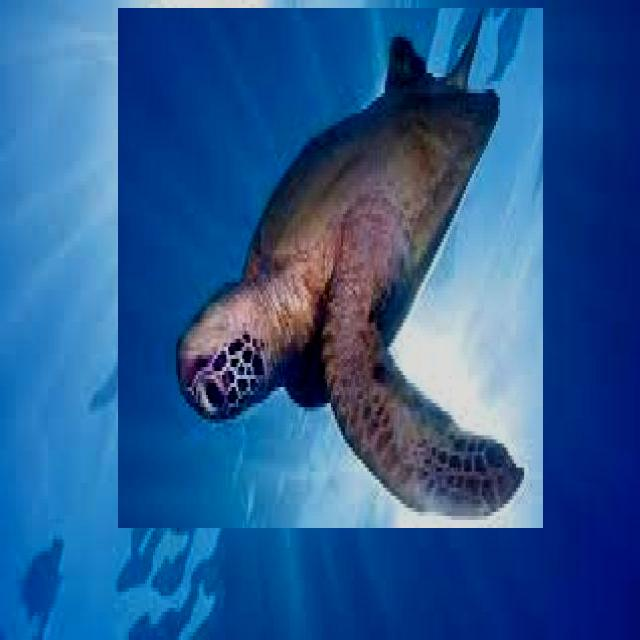Sea turtle: (118, 9, 543, 528)
